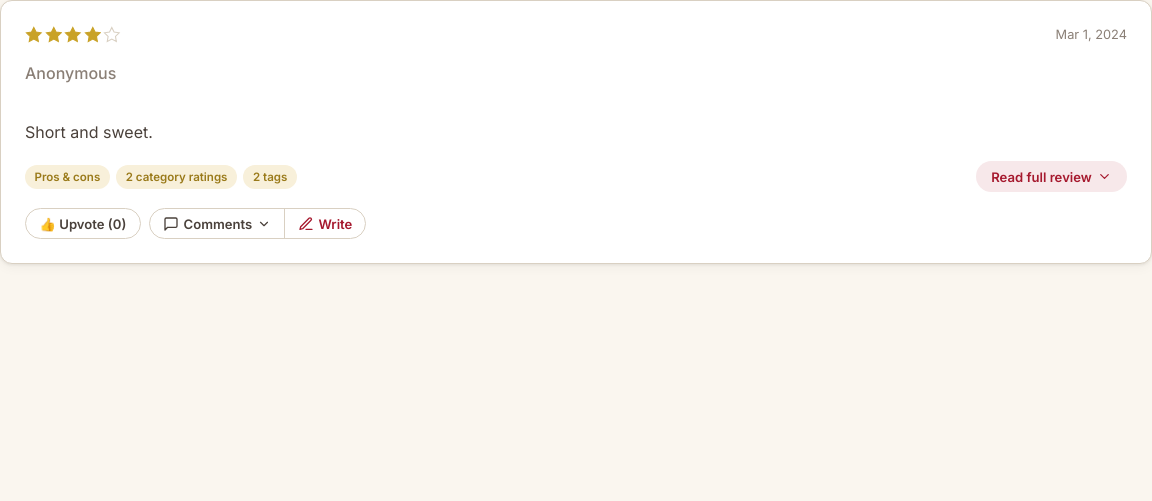
Test: ReviewCard collapsible behaviour › shows teaser chips and hides extras until expanded
expect the text "Pros & cons" is shown: met, box [25,165,110,189]
expect the text "2 category ratings" is shown: met, box [116,165,237,189]
Click the button "Read full review": [1051, 177] box [976,162,1127,192]
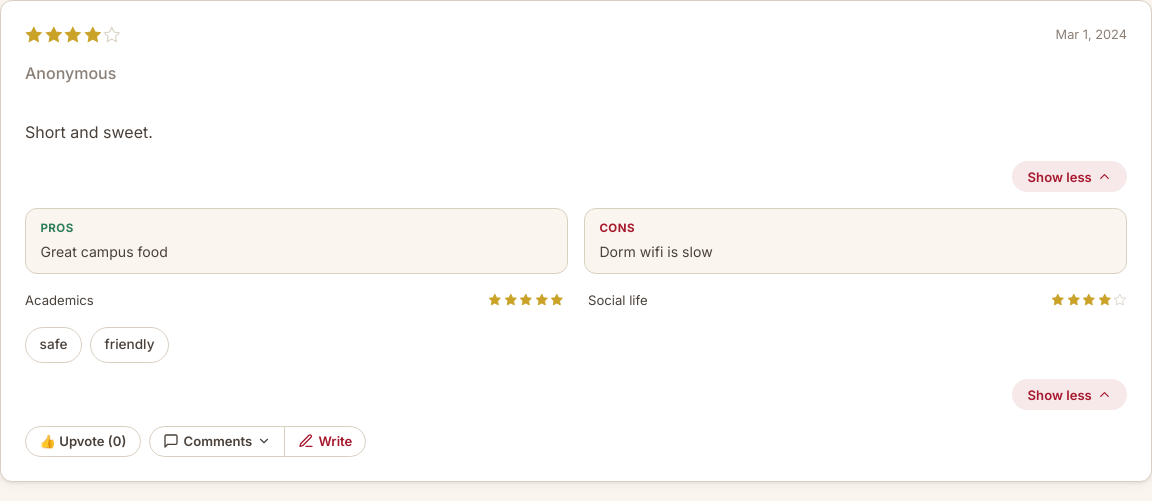
expect the text "Great campus food" is shown: met, box [40,243,168,260]
expect the text "Dorm wifi is slow" is shown: met, box [599,243,713,260]
expect the text "Academics" is shown: met, box [25,290,94,311]
Click the 1st button "Show less": [1070, 177] box [1012,162,1127,192]
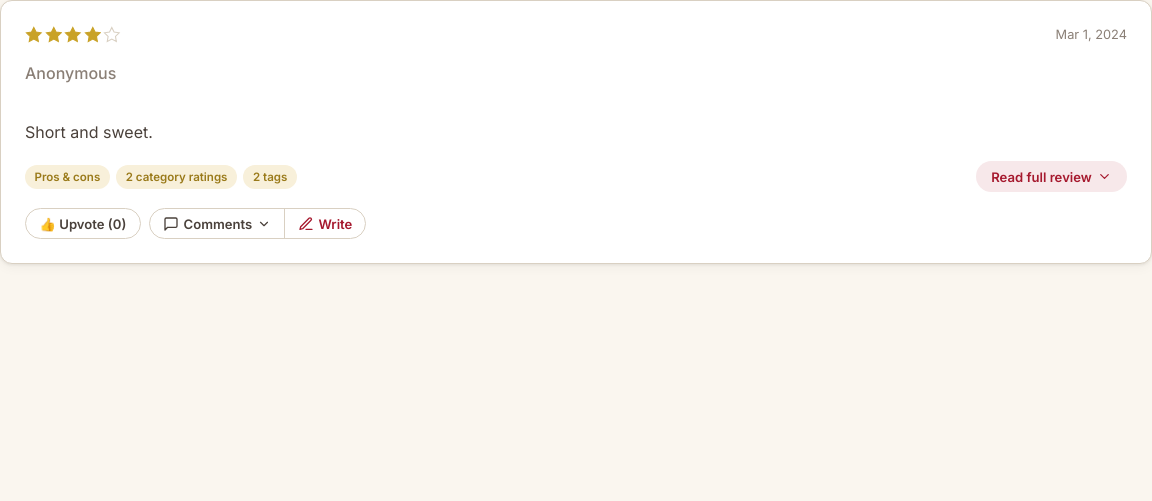
expect the text "Great campus food" is gone: met
expect the button "Read full review" is shown: met, box [976,162,1127,192]
